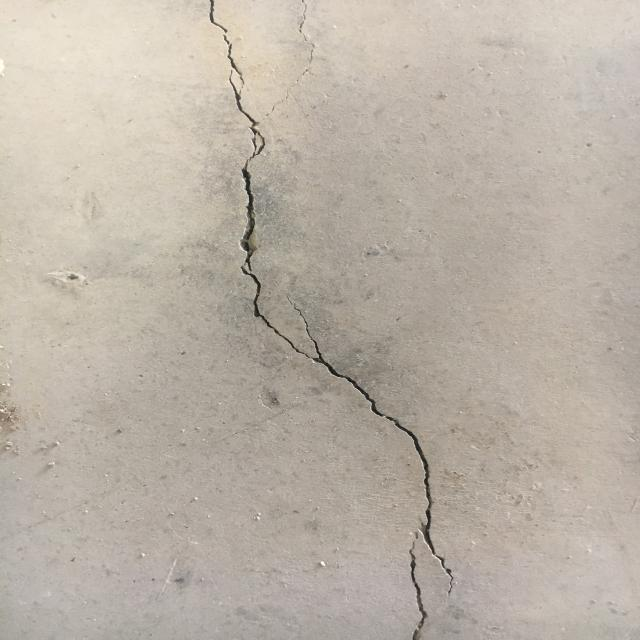Rachadura: (210, 0, 453, 640)
